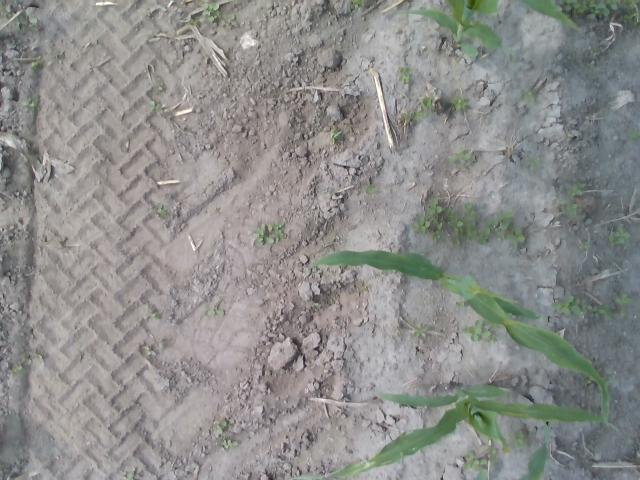Maize: (306, 248, 614, 430), (286, 385, 622, 480), (397, 0, 583, 68), (442, 423, 552, 480)
Weeds: (549, 0, 640, 27), (446, 202, 478, 244), (478, 210, 513, 246), (462, 317, 499, 343), (254, 222, 288, 246), (550, 296, 582, 316), (196, 0, 222, 22), (426, 198, 444, 229), (449, 147, 473, 170), (608, 223, 630, 246), (462, 452, 488, 470), (506, 226, 526, 249), (555, 198, 577, 218), (14, 15, 38, 32), (522, 154, 542, 174), (412, 214, 431, 234), (510, 430, 529, 450), (401, 108, 428, 122), (518, 88, 538, 105), (448, 95, 469, 111), (591, 303, 612, 319), (396, 66, 414, 84), (22, 94, 40, 112), (566, 182, 586, 197), (19, 352, 43, 364), (220, 14, 237, 30), (328, 126, 342, 144), (418, 94, 434, 109), (613, 292, 633, 304), (215, 420, 232, 434), (488, 444, 498, 467), (156, 202, 170, 218), (204, 307, 226, 317), (412, 324, 427, 338), (148, 100, 163, 114), (219, 439, 237, 449), (582, 298, 592, 315), (31, 58, 44, 71), (364, 182, 378, 194), (600, 374, 614, 386), (587, 48, 602, 58), (12, 364, 26, 374), (352, 0, 366, 9), (148, 310, 160, 320), (629, 130, 640, 140), (430, 231, 441, 241), (578, 241, 590, 250), (154, 82, 164, 92), (618, 308, 628, 317), (189, 18, 200, 26), (585, 375, 594, 384), (454, 300, 464, 308), (363, 284, 372, 292), (566, 132, 574, 139), (128, 473, 136, 480)
